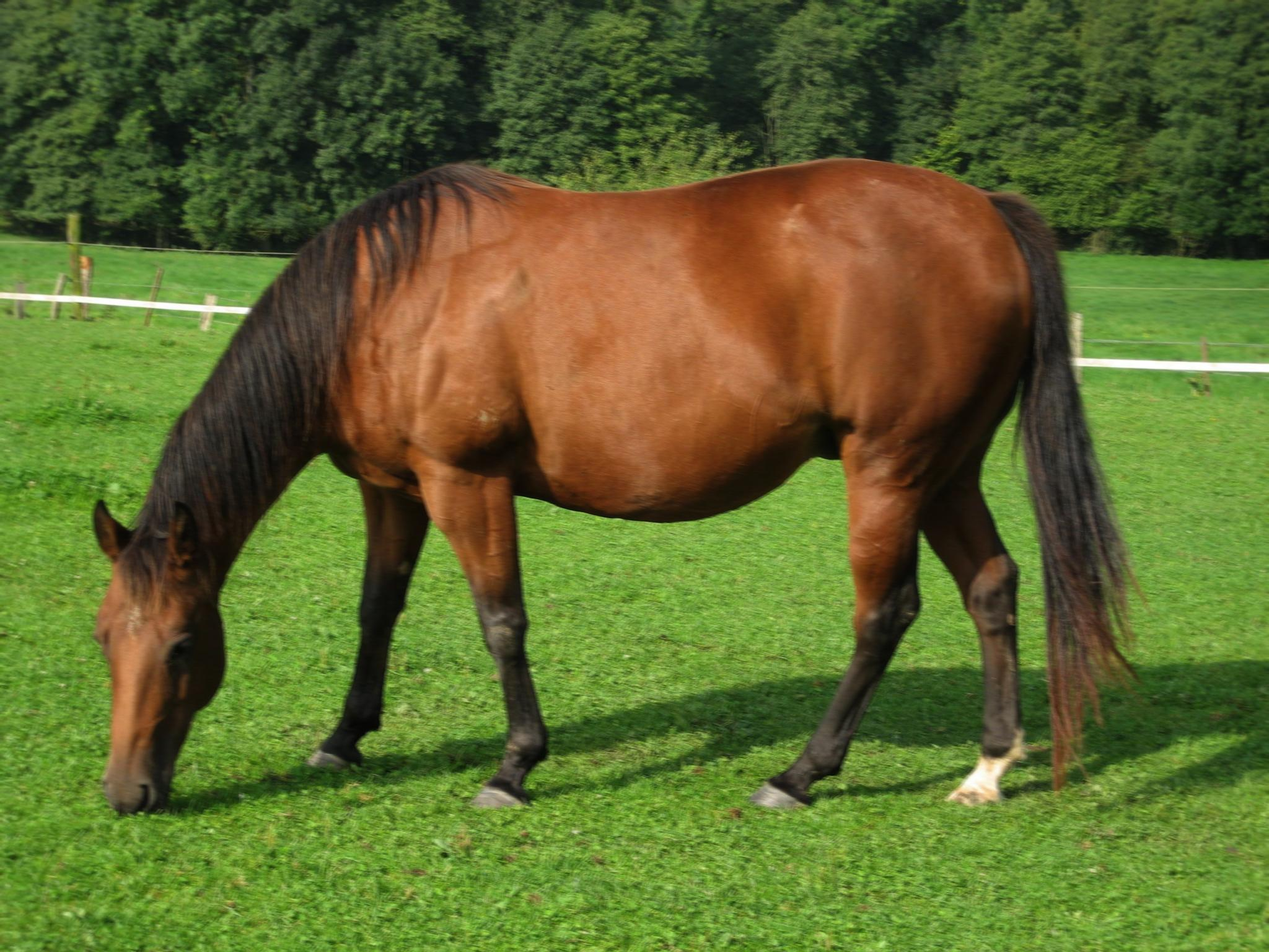horse: (71, 146, 1152, 831)
